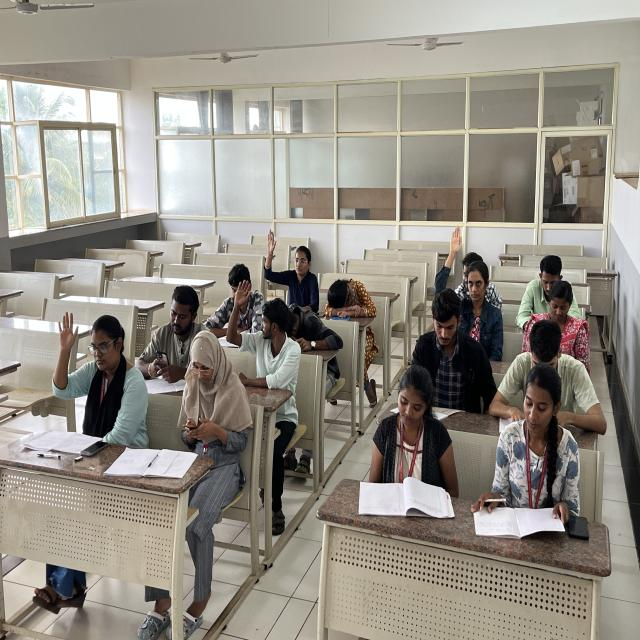Hand Rising: (40, 316, 151, 430), (424, 222, 501, 338), (222, 279, 300, 390), (250, 222, 327, 302)
Reading: (472, 376, 565, 540), (368, 370, 460, 518), (404, 306, 476, 416), (499, 333, 572, 435), (204, 265, 263, 346)
Sleeping: (318, 266, 392, 330), (276, 290, 346, 354)
Using Phone: (177, 339, 255, 443), (136, 278, 204, 372), (508, 251, 580, 326)
